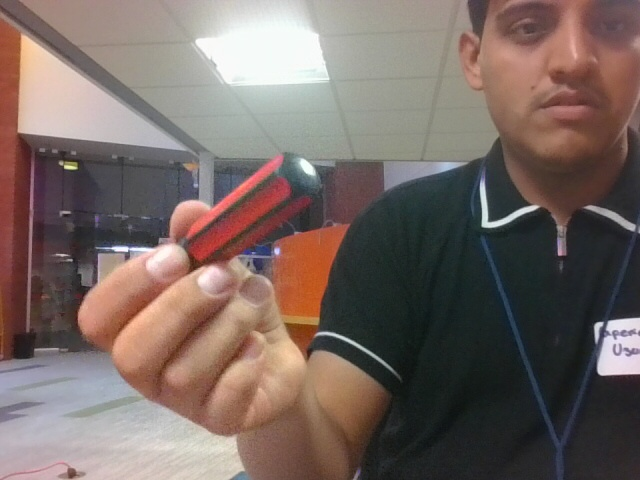destornillador: (172, 153, 321, 273)
